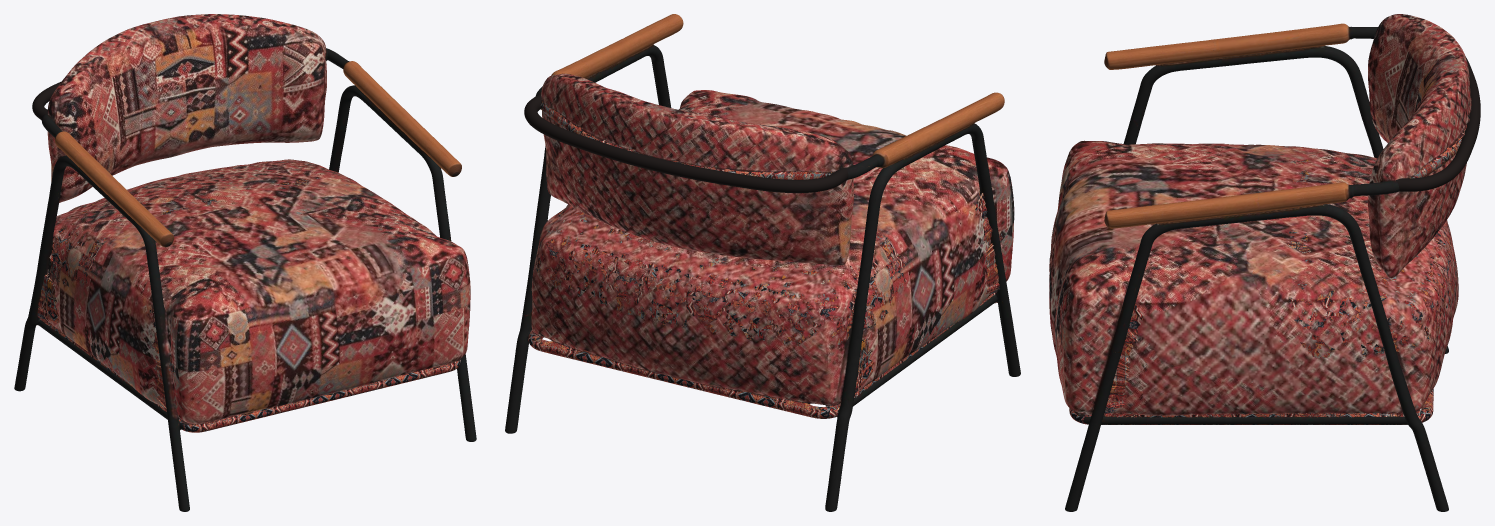
The model's file is tuwaiq-chair.glb.
3 renders of one model, left to right at view 1: azimuth 30°, elevation 25°; view 2: azimuth 150°, elevation 25°; view 3: azimuth 270°, elevation 25°, orthographic. The views are drawn at different scales.
Parts seen in each view (by area): view 1: SeatCushion, SeatBack, ChairBase, SeatCushionFabric; view 2: SeatCushion, SeatBack, ChairBase, SeatCushionFabric, SeatBackFabric; view 3: SeatCushion, ChairBase, SeatBack, SeatCushionFabric, SeatBackFabric.
Boxes of the visible parts, x1,y1,x2,y2 form: SeatCushion: [47, 159, 470, 425]; SeatBack: [47, 14, 346, 243]; ChairBase: [14, 48, 476, 511]; SeatCushionFabric: [37, 159, 461, 432]; SeatCushion: [531, 90, 1014, 405]; SeatBack: [541, 73, 881, 272]; ChairBase: [505, 14, 1020, 511]; SeatCushionFabric: [528, 191, 1005, 418]; SeatBackFabric: [540, 101, 832, 179]; SeatCushion: [1049, 140, 1458, 416]; ChairBase: [1065, 23, 1480, 511]; SeatBack: [1305, 14, 1471, 292]; SeatCushionFabric: [1069, 146, 1457, 424]; SeatBackFabric: [1409, 101, 1471, 178].
Bounding box in the file's own units: 1.75 × 1.81 × 1.91.
Materials: 2 (2 with a texture image).
